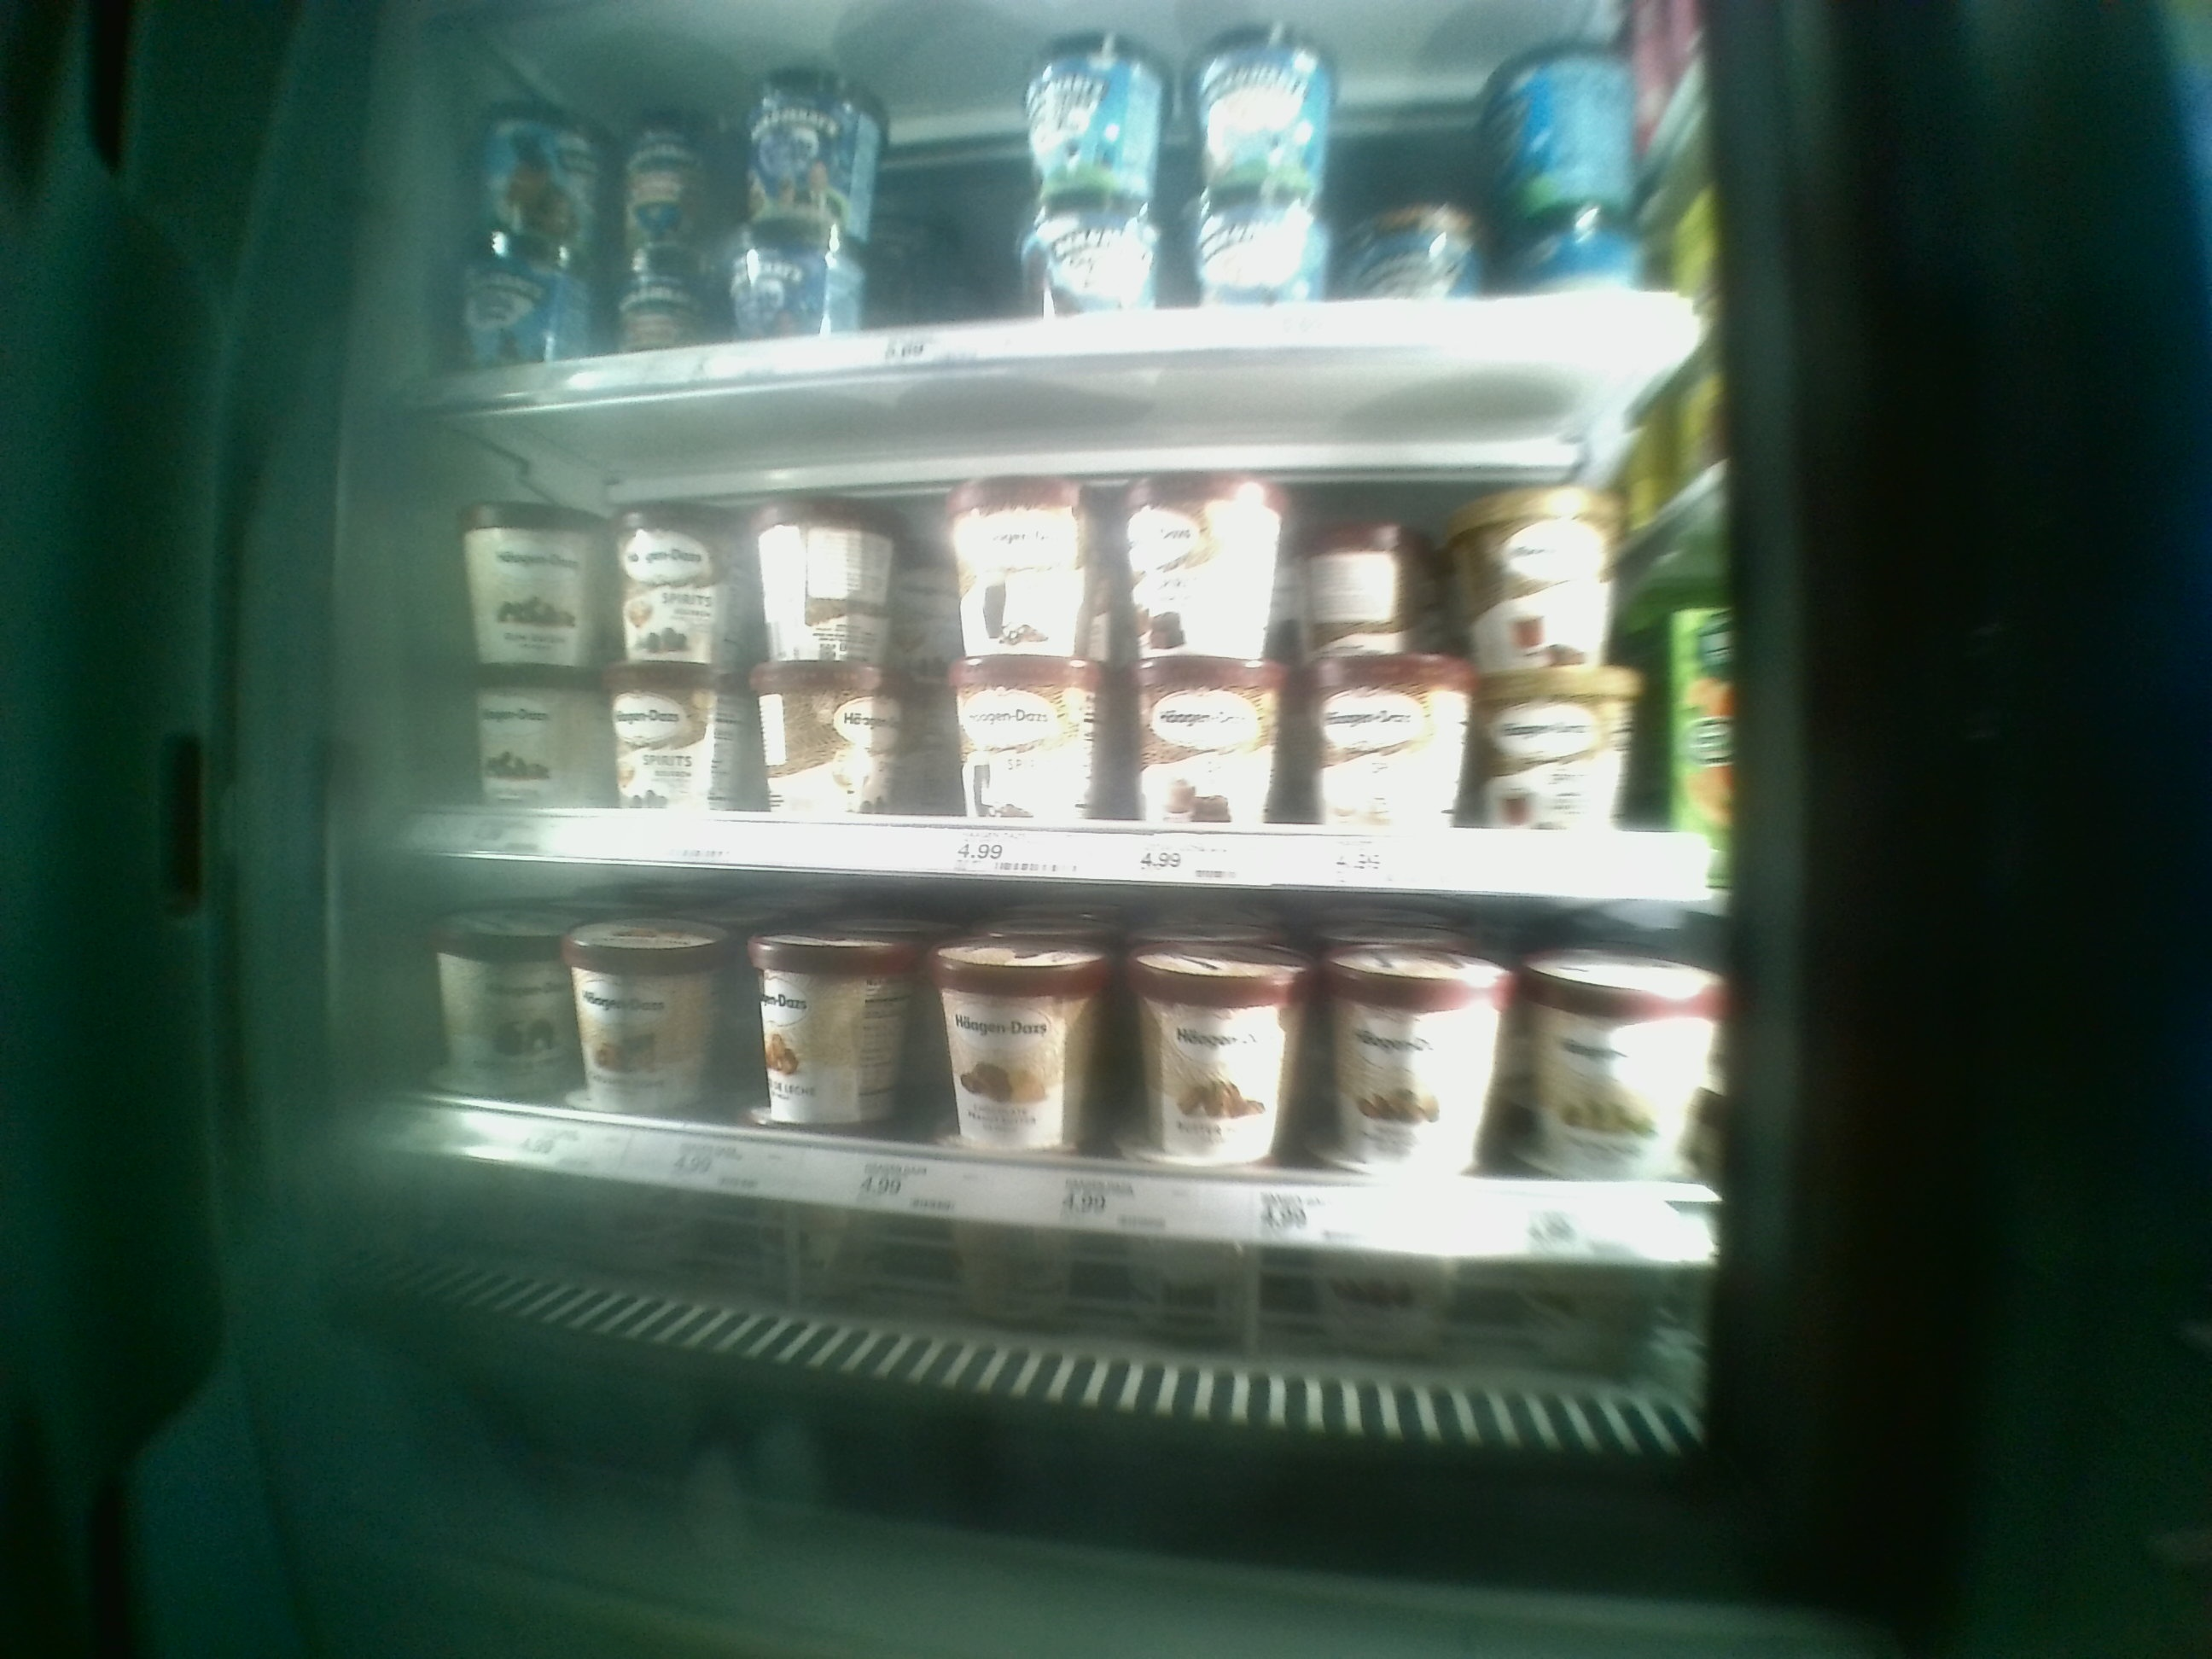shelf: (404, 342, 1735, 877), (399, 878, 1735, 1293)
